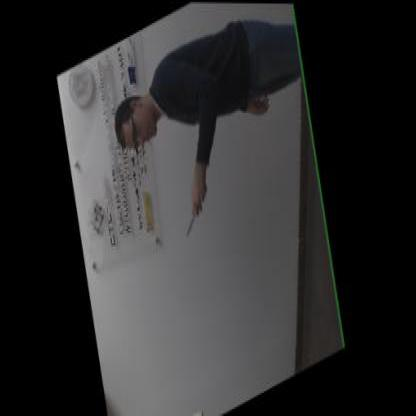knife: (179, 188, 211, 237)
